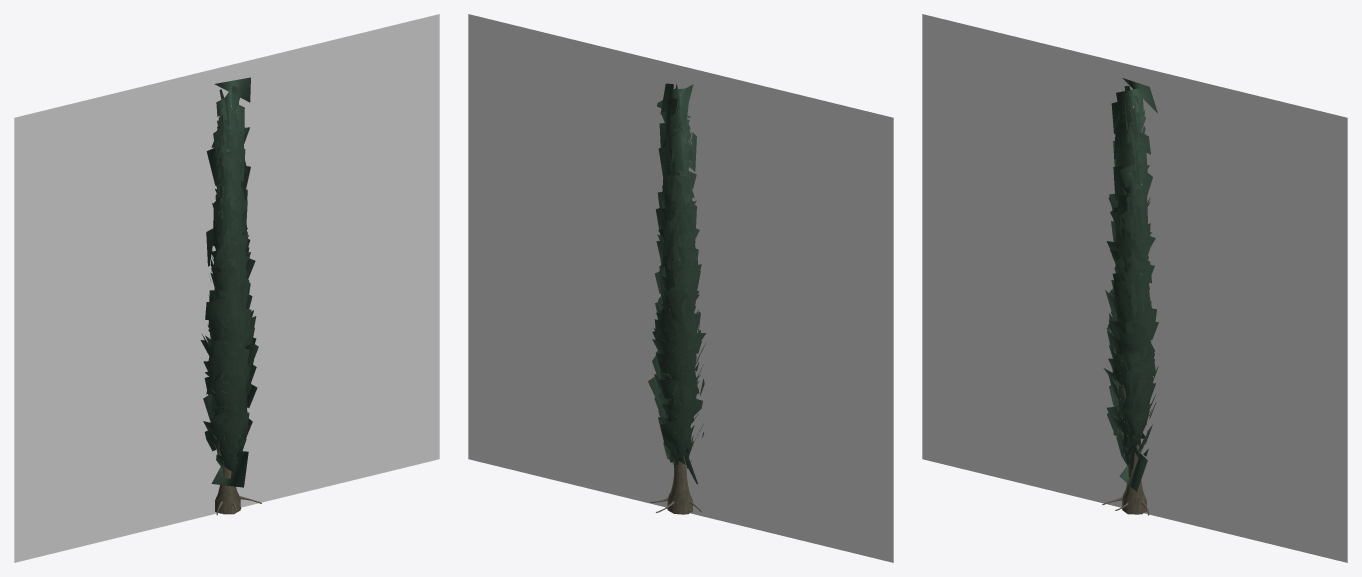
The model's file is cypres_adulte_a.fbx.
3 renders of one model, left to right at view 1: azimuth 30°, elevation 25°; view 2: azimuth 150°, elevation 25°; view 3: azimuth 330°, elevation 25°, orthographic.
Parts seen in each view (by area): view 1: cypres_adulte_a_LOD3, cypres_adulte_a_LOD2, cypres_adulte_a_LOD1; view 2: cypres_adulte_a_LOD3, cypres_adulte_a_LOD1, cypres_adulte_a_LOD2; view 3: cypres_adulte_a_LOD3, cypres_adulte_a_LOD2, cypres_adulte_a_LOD1.
Part boxes in pixels (x1=…): cypres_adulte_a_LOD3: x1=14, y1=14, x2=439, y2=562; cypres_adulte_a_LOD2: x1=201, y1=77, x2=258, y2=514; cypres_adulte_a_LOD1: x1=200, y1=86, x2=261, y2=515; cypres_adulte_a_LOD3: x1=468, y1=14, x2=893, y2=562; cypres_adulte_a_LOD1: x1=648, y1=84, x2=706, y2=514; cypres_adulte_a_LOD2: x1=652, y1=83, x2=706, y2=514; cypres_adulte_a_LOD3: x1=922, y1=14, x2=1347, y2=562; cypres_adulte_a_LOD2: x1=1106, y1=78, x2=1157, y2=514; cypres_adulte_a_LOD1: x1=1102, y1=86, x2=1158, y2=515.
Size of what is drawn, in the model's own units: 13.95 by 13.95 by 1.92.
